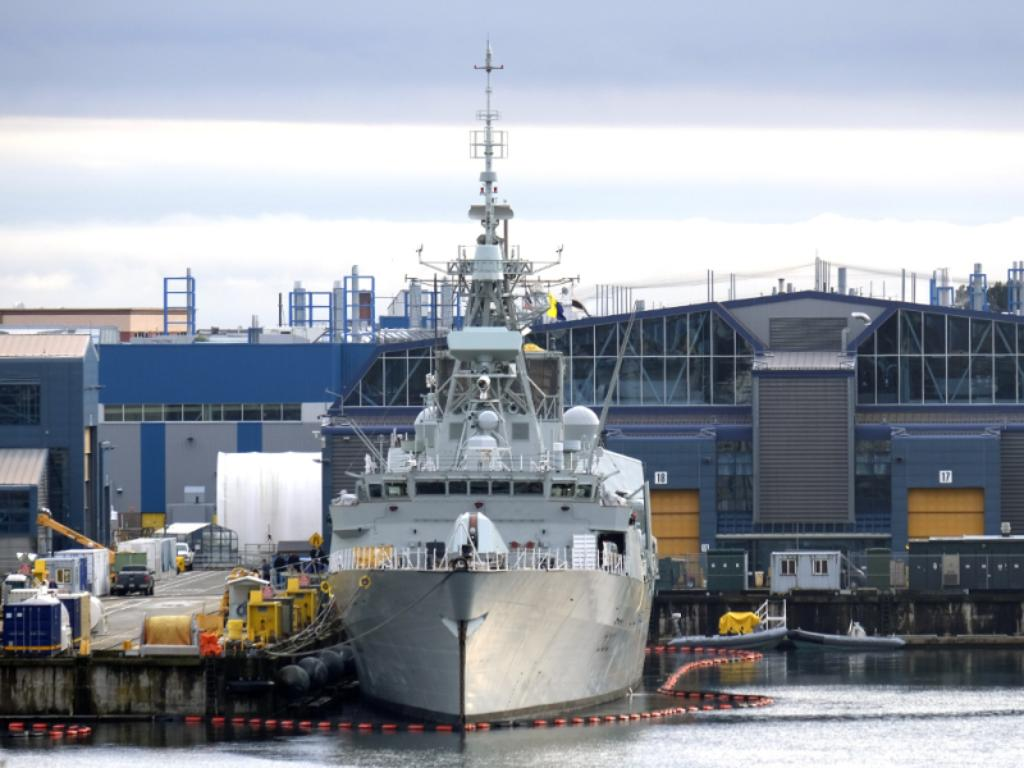Warship: (304, 26, 668, 736)
